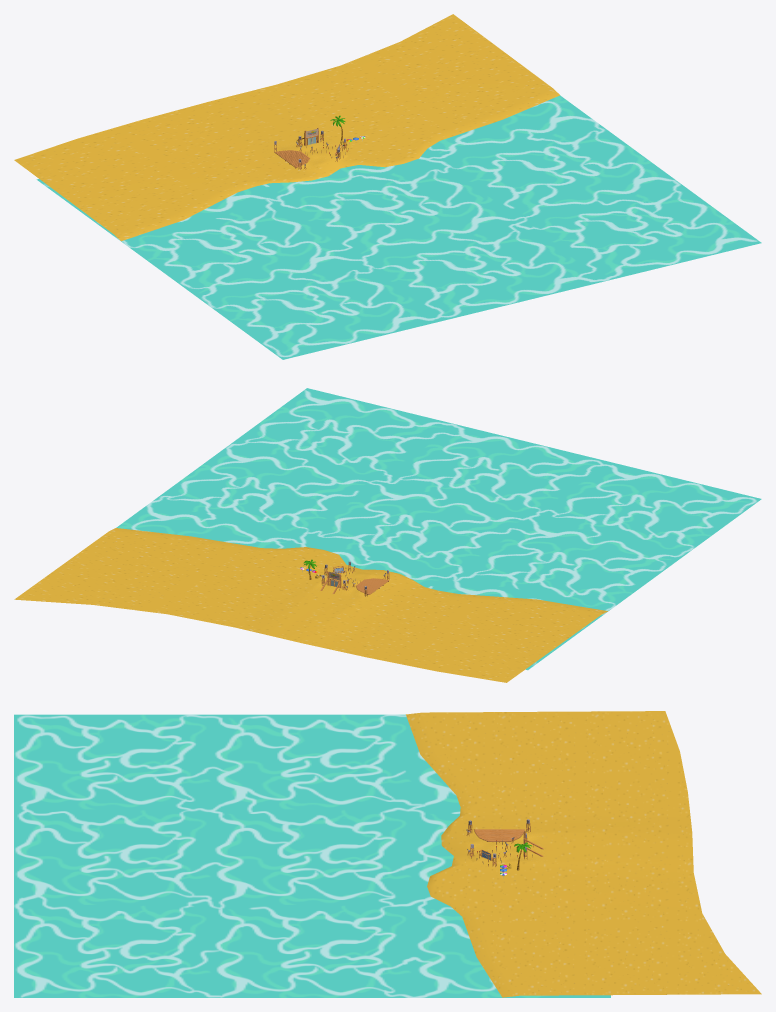
File: Set_Beach.fbx
The picture shows the model from 3 angles, top to bottom: view 1: azimuth 30°, elevation 25°; view 2: azimuth 150°, elevation 25°; view 3: azimuth 270°, elevation 25°; orthographic projection. The views are drawn at different scales.
Visible parts, largest first — view 1: Set_Beach_Ocean, Set_Beach_Floor_Sand; view 2: Set_Beach_Ocean, Set_Beach_Floor_Sand; view 3: Set_Beach_Ocean, Set_Beach_Floor_Sand, Set_Beach_Mini_Game_Podium.
Boxes of the visible parts, x1,y1,x2,y2 form: Set_Beach_Ocean: (36,95,761,359); Set_Beach_Floor_Sand: (14,14,559,241); Set_Beach_Ocean: (116,388,761,670); Set_Beach_Floor_Sand: (14,528,607,682); Set_Beach_Ocean: (14,714,610,997); Set_Beach_Floor_Sand: (406,711,761,997); Set_Beach_Mini_Game_Podium: (474,829,524,842).
Bounding box in the file's own units: 363 × 17.2 × 406.
3 materials, 3 textured.
